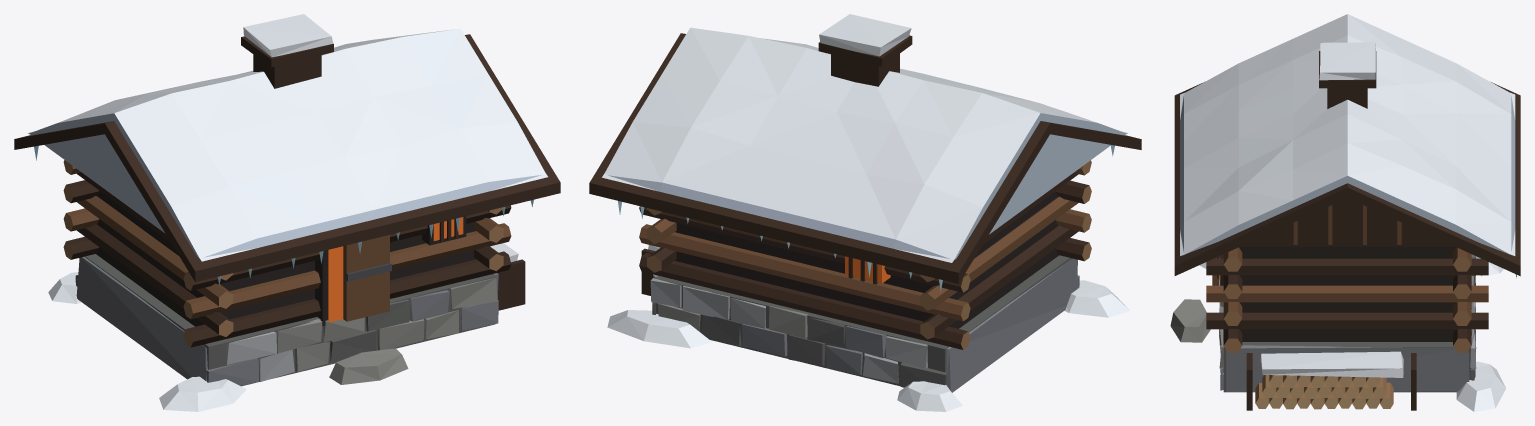
Rendered from mountain_cabin.fbx.
3 views of the same model, side by side, from view 1: azimuth 30°, elevation 25°; view 2: azimuth 150°, elevation 25°; view 3: azimuth 270°, elevation 25° (orthographic). The views are drawn at different scales.
Visible parts, largest first — view 1: mountain_cabin; view 2: mountain_cabin; view 3: mountain_cabin.
Part boxes in pixels (x1,y1,x2,y2): mountain_cabin: (14,14,560,411); mountain_cabin: (589,14,1141,411); mountain_cabin: (1170,14,1520,411).
Size of the model in its own units: 7.28 by 5.18 by 6.07.
